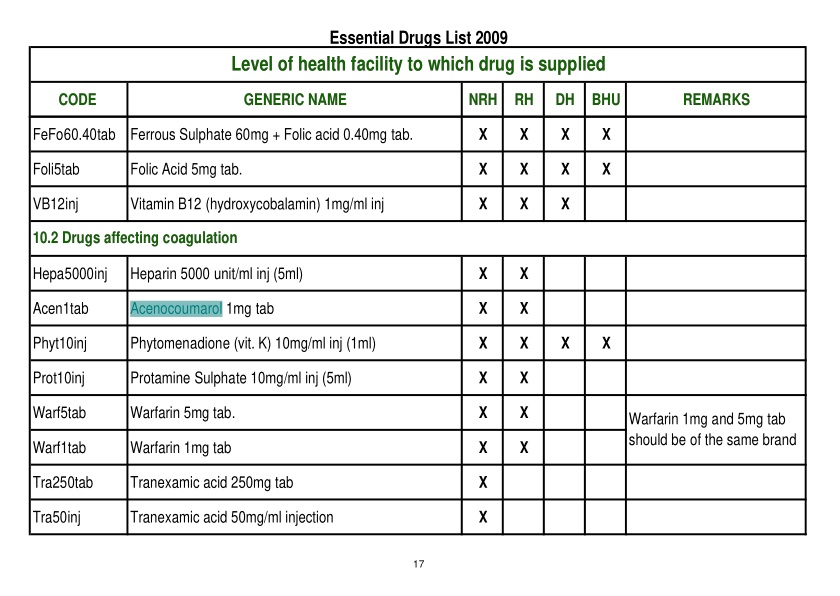merged_cells: (28, 45, 808, 536)
